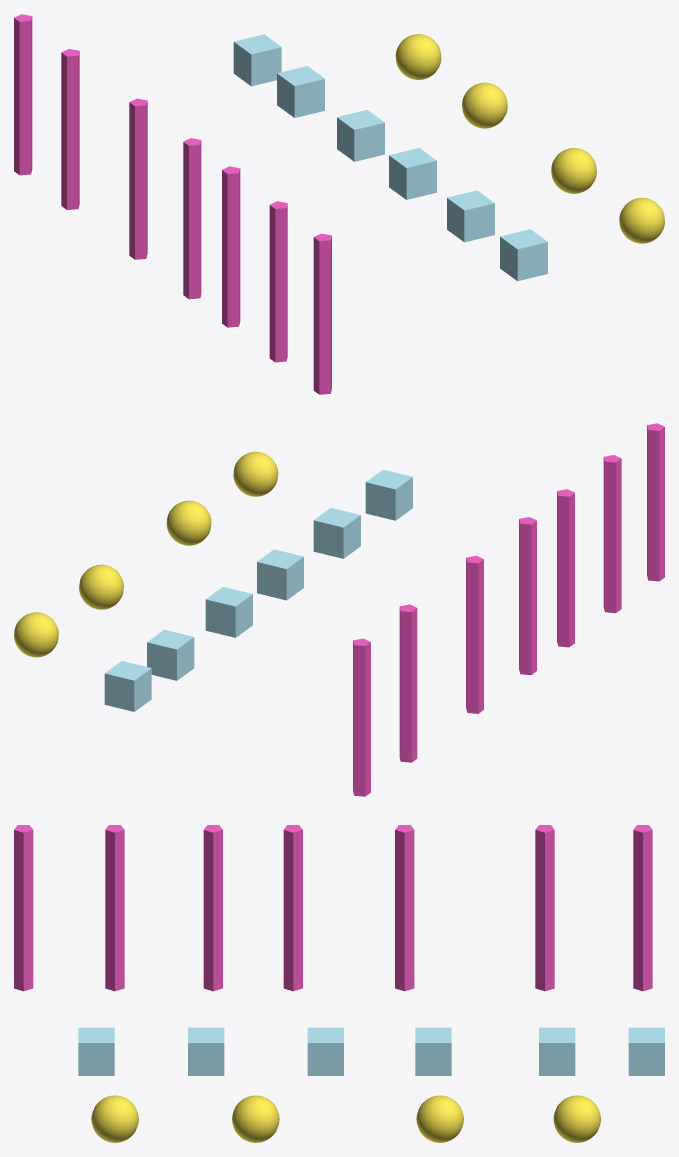
Rendered from simple_001_Camera-Orthographic_03.dae.
3 views of the same model, one above another, from view 1: azimuth 30°, elevation 25°; view 2: azimuth 150°, elevation 25°; view 3: azimuth 270°, elevation 25° (orthographic). The views are drawn at different scales.
Visible parts, largest first — view 1: pCylinder5, pCylinder3, pCylinder4, pCylinder7, pCylinder1, pCylinder2, pCylinder6, pCube3, pCube1, pCube2, pCube4, pCube6 (+5 smaller); view 2: pCylinder6, pCylinder2, pCylinder1, pCylinder3, pCylinder5, pCylinder4, pCylinder7, pCube1, pCube2, pCube4, pCube6, pCube5 (+5 smaller); view 3: pCylinder2, pCylinder4, pCylinder5, pCylinder6, pCylinder3, pCylinder7, pCylinder1, pCube1, pCube4, pCube2, pCube3, pCube5 (+5 smaller).
Part boxes in pixels (bbox=[...]): pCylinder5: bbox=[129, 98, 147, 259]; pCylinder3: bbox=[222, 166, 240, 327]; pCylinder4: bbox=[183, 138, 201, 299]; pCylinder7: bbox=[14, 14, 32, 175]; pCylinder1: bbox=[313, 233, 331, 394]; pCylinder2: bbox=[269, 201, 287, 362]; pCylinder6: bbox=[61, 49, 79, 209]; pCube3: bbox=[389, 148, 436, 199]; pCube1: bbox=[500, 229, 547, 281]; pCube2: bbox=[447, 190, 494, 242]; pCube4: bbox=[337, 110, 384, 161]; pCube6: bbox=[233, 34, 281, 86]; pCylinder6: bbox=[399, 604, 417, 762]; pCylinder2: bbox=[603, 455, 621, 613]; pCylinder1: bbox=[647, 423, 664, 581]; pCylinder3: bbox=[557, 489, 574, 647]; pCylinder5: bbox=[466, 555, 483, 713]; pCylinder4: bbox=[519, 517, 536, 674]; pCylinder7: bbox=[353, 638, 370, 796]; pCube1: bbox=[365, 469, 412, 520]; pCube2: bbox=[313, 508, 360, 558]; pCube4: bbox=[205, 587, 252, 637]; pCube6: bbox=[104, 661, 151, 711]; pCube5: bbox=[147, 629, 194, 680]; pCylinder2: bbox=[105, 825, 124, 991]; pCylinder4: bbox=[283, 825, 302, 991]; pCylinder5: bbox=[395, 825, 414, 991]; pCylinder6: bbox=[535, 825, 554, 991]; pCylinder3: bbox=[203, 825, 222, 991]; pCylinder7: bbox=[633, 825, 652, 991]; pCylinder1: bbox=[14, 825, 33, 991]; pCube1: bbox=[78, 1027, 114, 1075]; pCube4: bbox=[415, 1027, 451, 1075]; pCube2: bbox=[188, 1027, 224, 1075]; pCube3: bbox=[307, 1027, 343, 1075]; pCube5: bbox=[539, 1027, 575, 1075].
Size of what is drawn, in the model's own units: 12.17 by 4.58 by 17.04.
